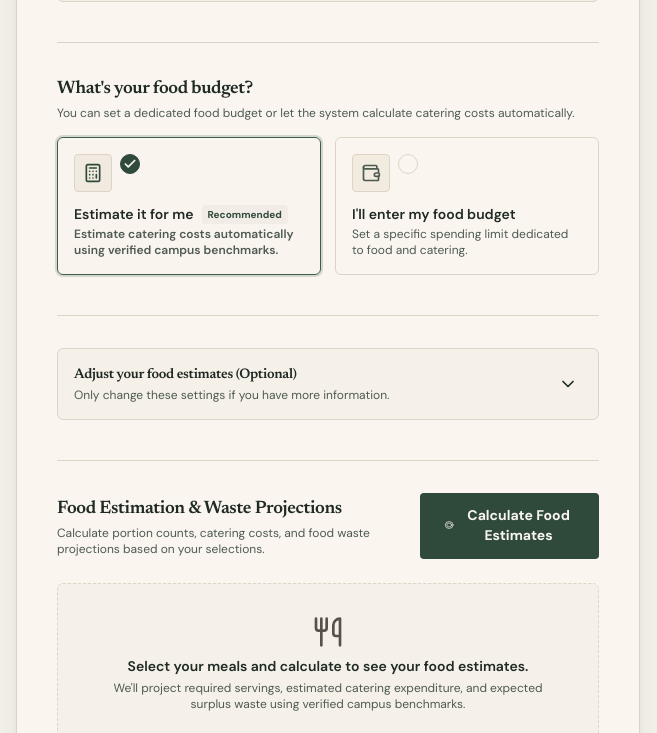
Test case: Food Planning Page (Step 4) › keeps customization collapsed by default and allows expanding supported options
This screenshot has width=657, height=733.
(page scrolled)
expect the text "Do you already have a caterer's price?" is not shown: met
Click the button "Adjust your food estimates (Optional)" at (328, 384), box [57,348,599,420]
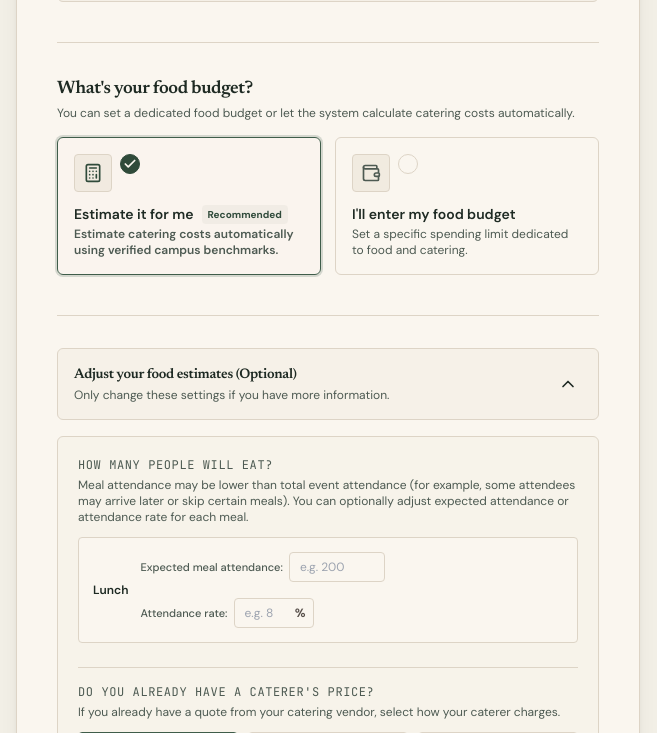
expect the button "Adjust your food estimates (Optional)" is expanded: met, box [57,348,599,420]
expect the heading "Do you already have a caterer's price?" is shown: met, box [78,684,374,700]
expect the heading "How many people will eat?" is shown: met, box [78,457,273,473]
